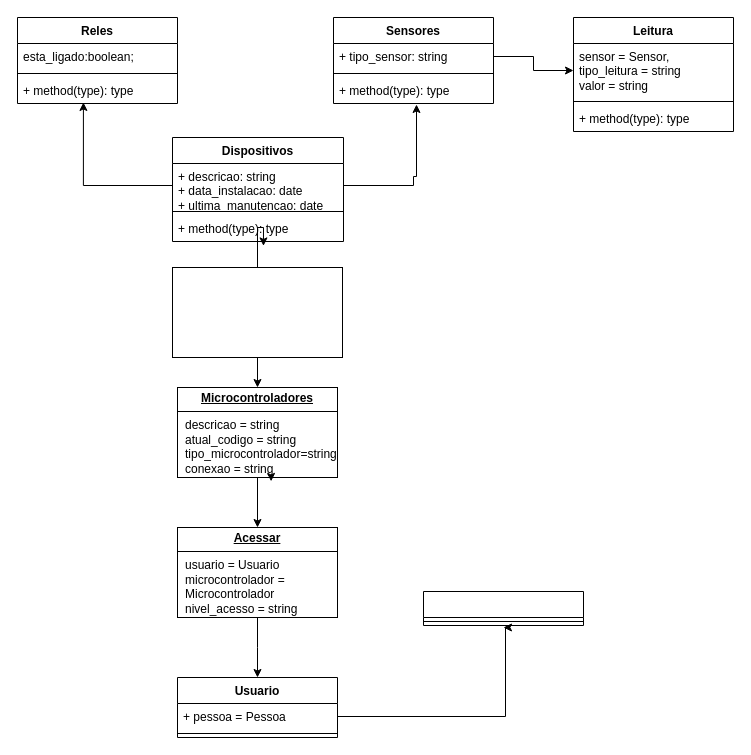
This 751x755 diagram has some shape labels left out. Each missing label, with the centre of its shape:
"Conexão descricao = string tipo_conexao = string" goes at (x=257, y=312).
"User(Django)" goes at (x=503, y=608).
